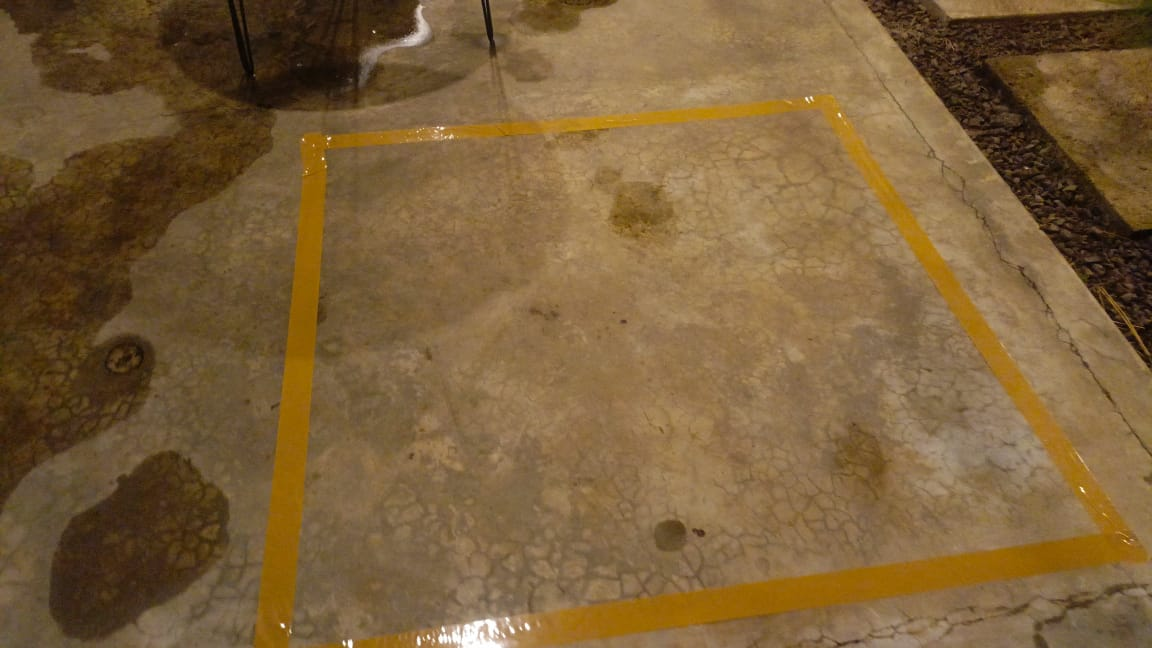floor marking: (255, 96, 1147, 647)
